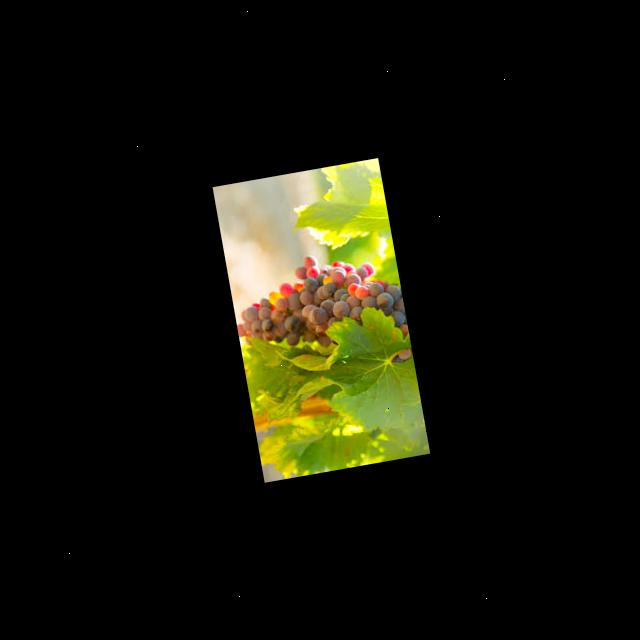grape: (226, 245, 408, 378)
